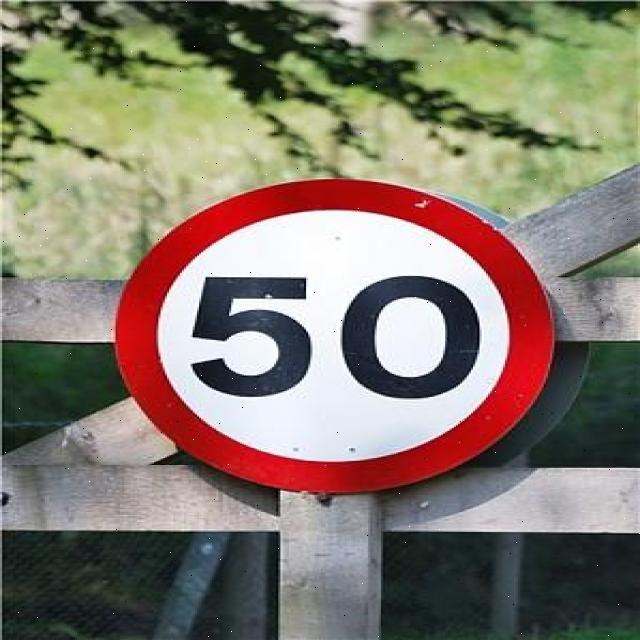speed limit 50: (111, 178, 556, 496)
